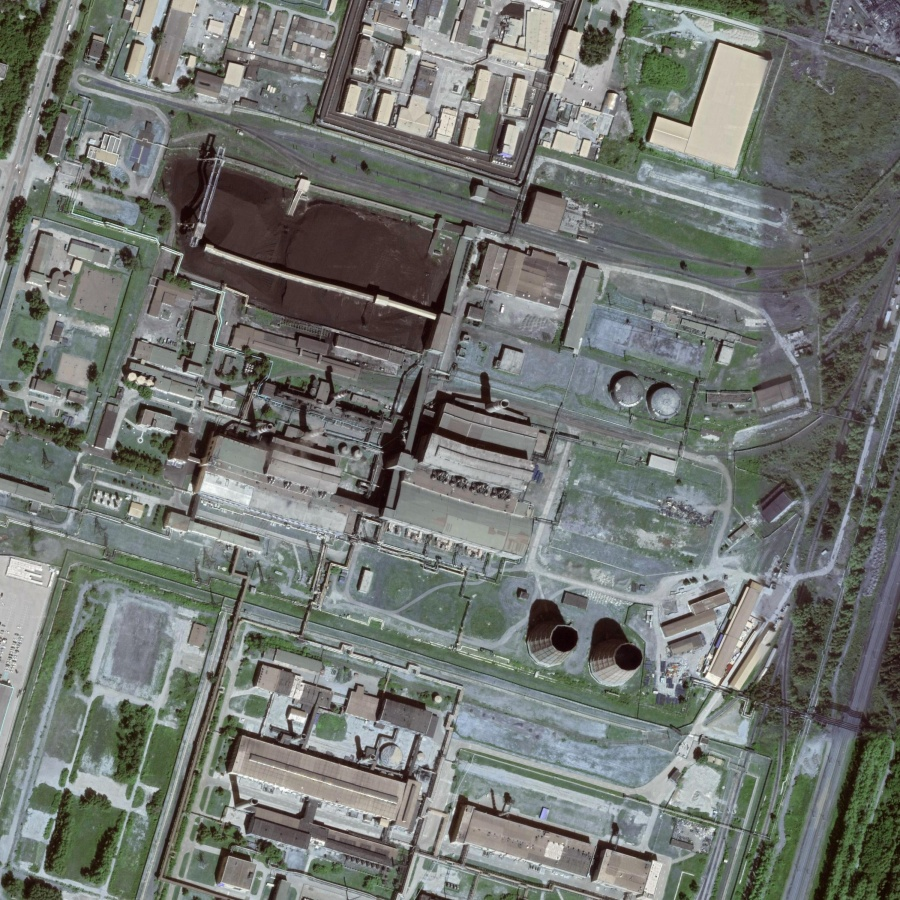PowerPlant: (145, 130, 704, 699)
